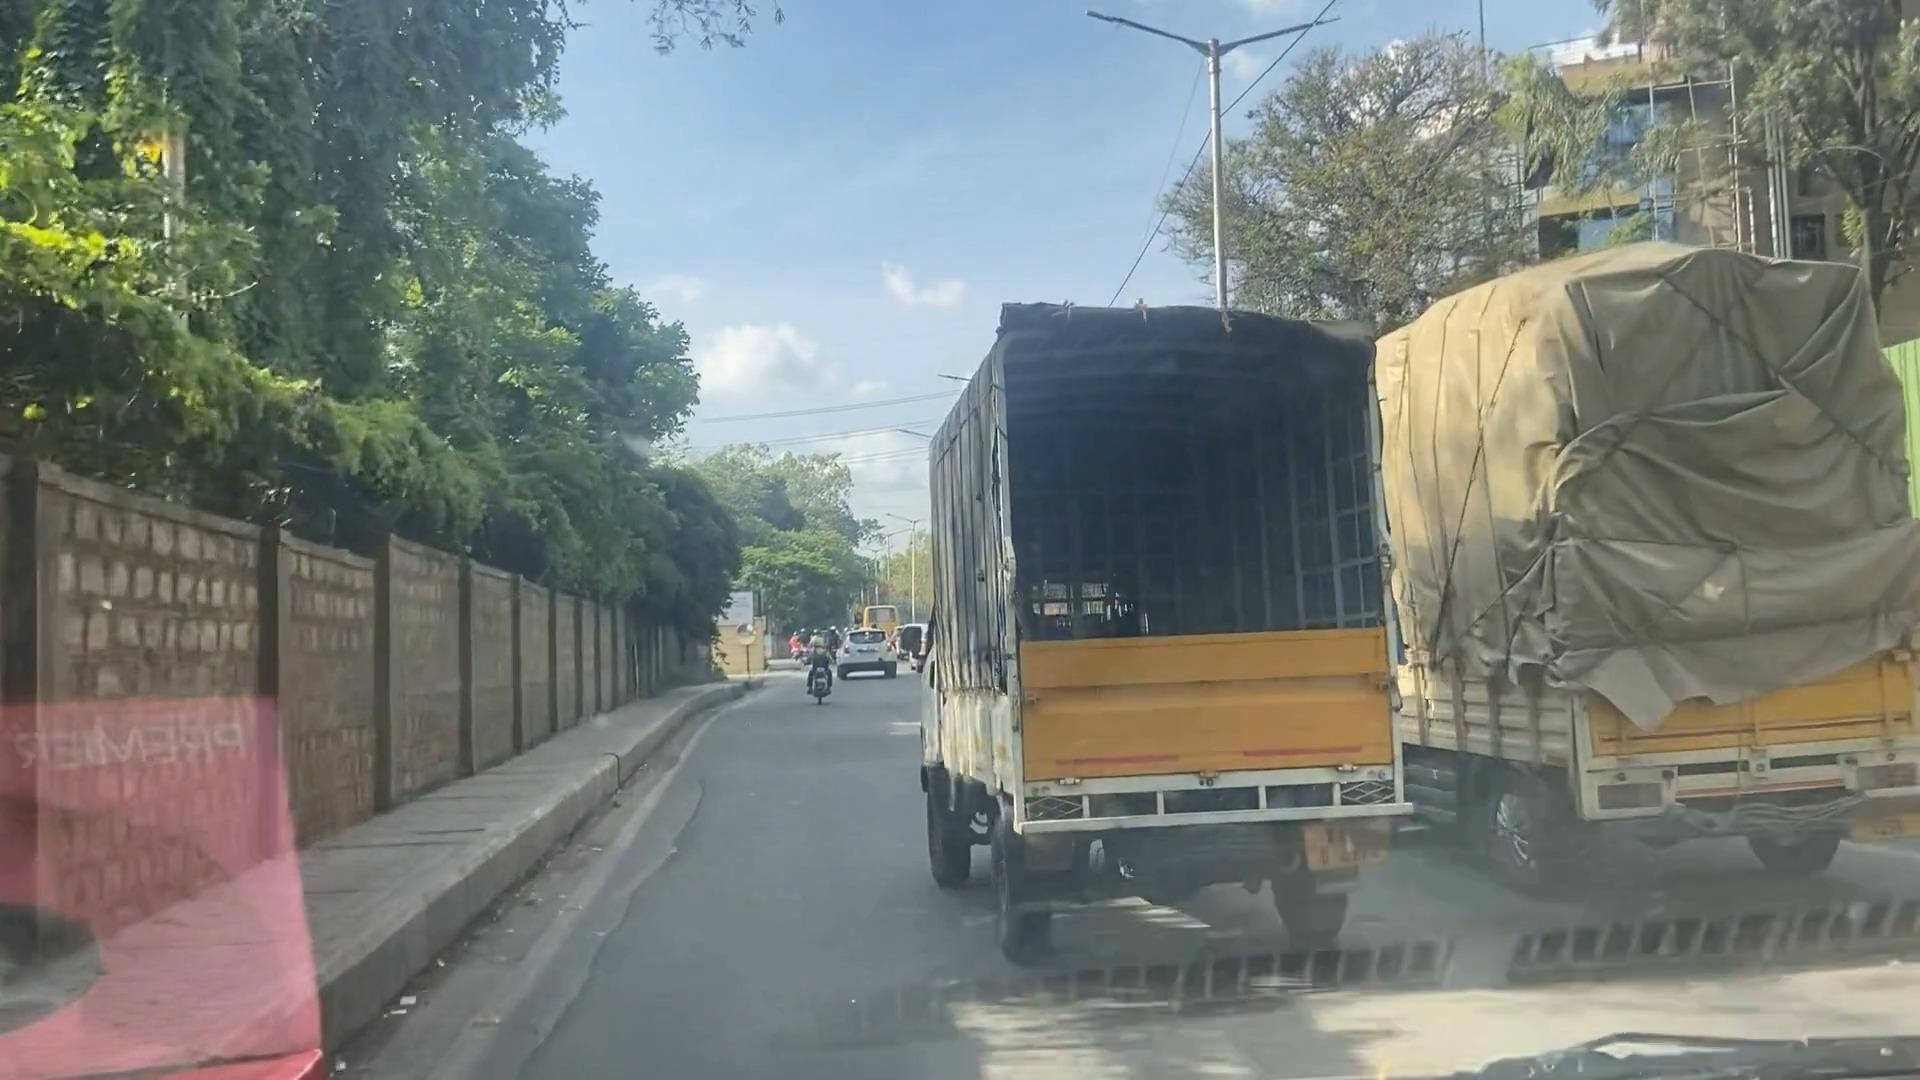HMV: (909, 206, 1472, 1005), (1377, 194, 1920, 922)
